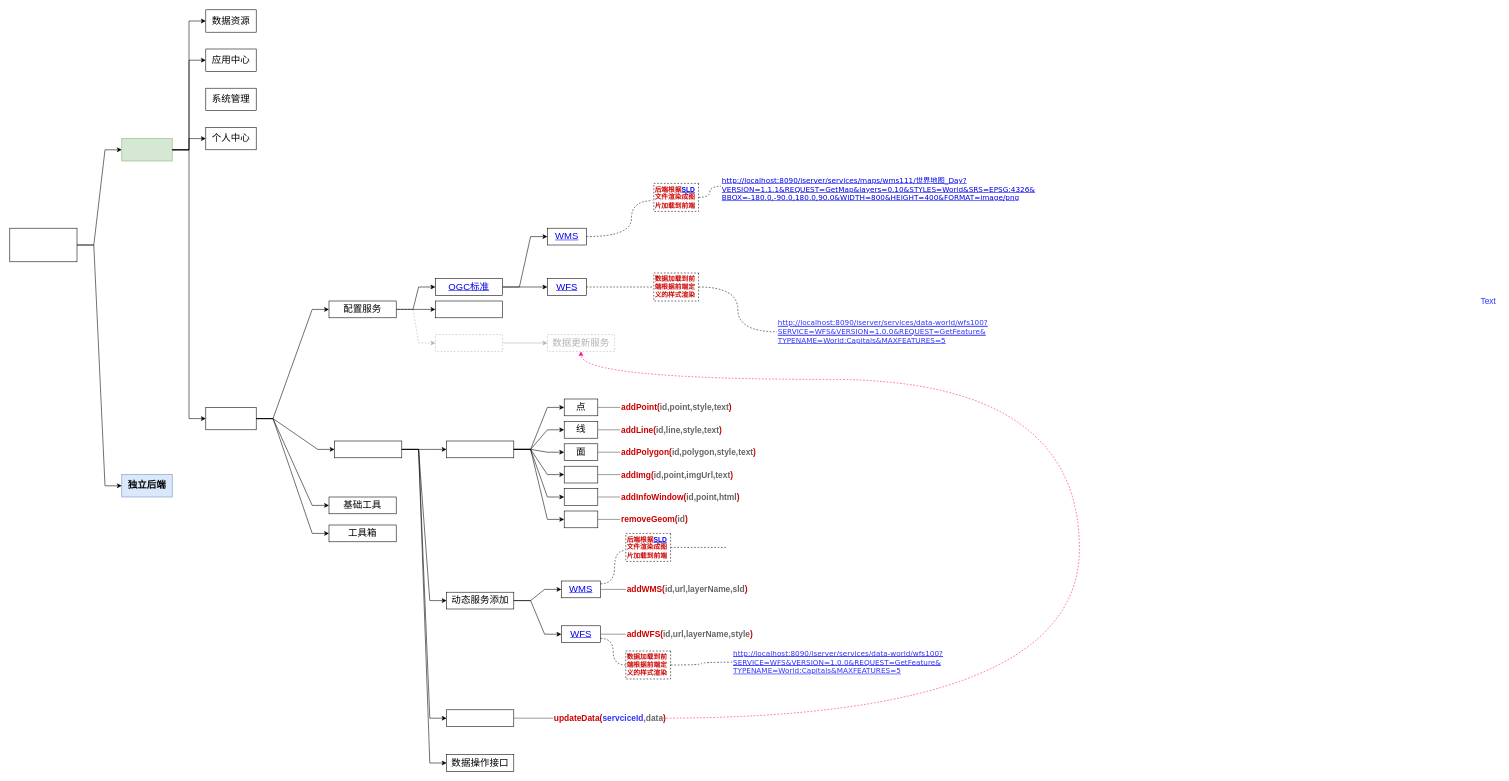
The diagram is 1509 pixels wide and 781 high, and some of its shapes have lost their labels. Here are the shapes that lost their labels. From the top down, the centre of each, then its label:
point 146,149: 独立前端
point 43,245: GIS应用
point 469,309: BIM模型服务
point 469,342: 其他服务
point 230,418: 电子沙盘
point 368,449: JS API
point 480,449: 绘制类接口
point 581,474: 图标
point 581,496: 信息框
point 581,519: 移除
point 480,718: 数据更新接口
